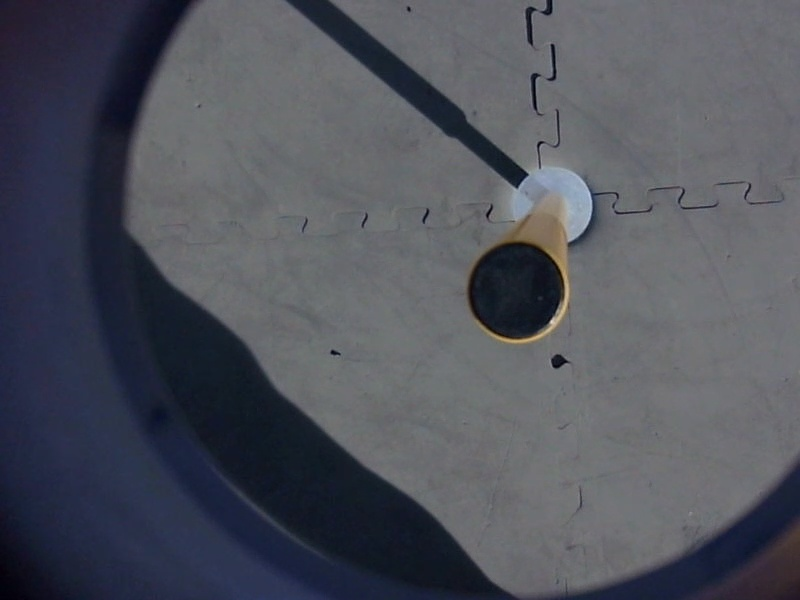tip: (457, 236, 574, 347)
